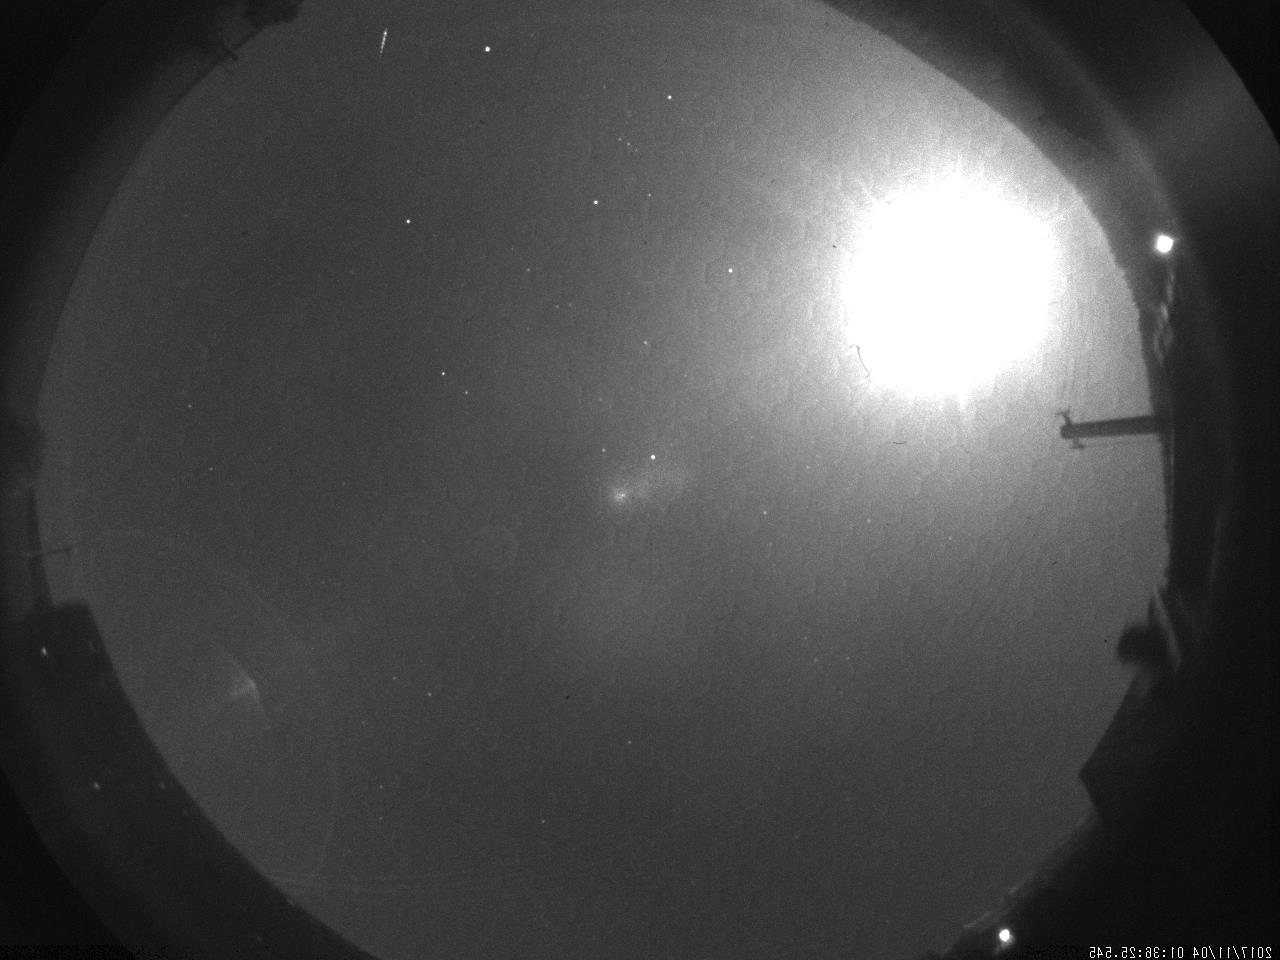meteor: (363, 23, 391, 68)
